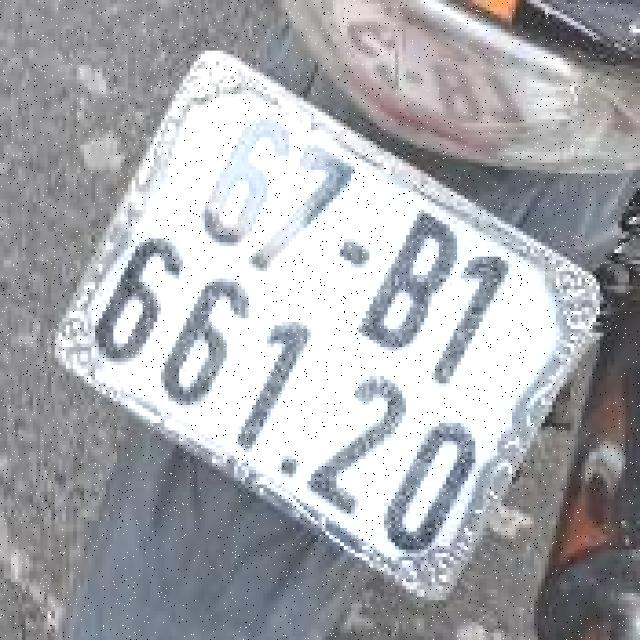0: (370, 407, 497, 572)
1: (402, 241, 522, 402), (216, 303, 328, 461)
2: (295, 360, 423, 528)
6: (181, 96, 305, 265), (78, 221, 198, 381), (146, 265, 266, 422)
7: (235, 135, 366, 294)
B: (345, 200, 477, 371)
